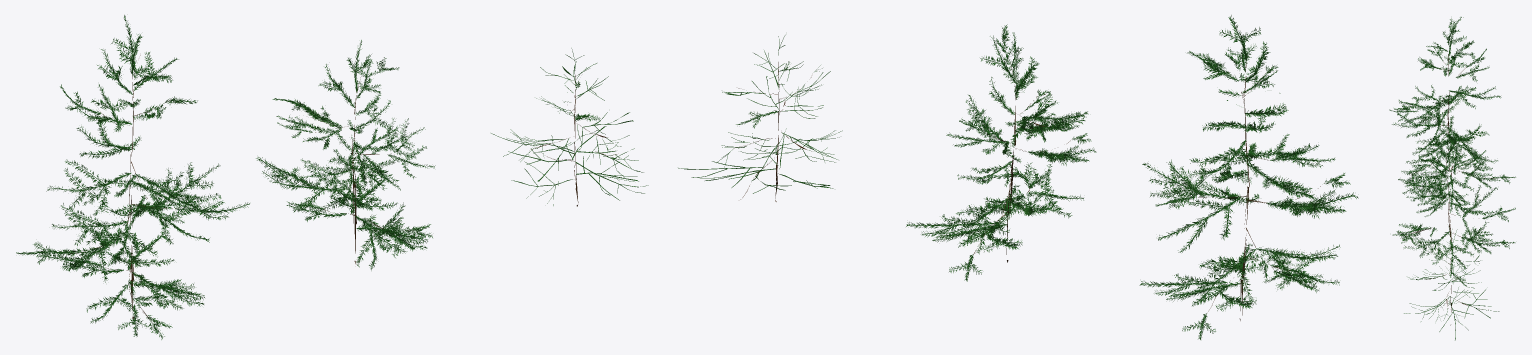
Rendered from fir_sapling_realistic.obj.
3 renders of one model, left to right at view 1: azimuth 30°, elevation 25°; view 2: azimuth 150°, elevation 25°; view 3: azimuth 270°, elevation 25°, orthographic. The views are drawn at different scales.
Visible parts, largest first — view 1: part_2__fir_sapling_twigs, part_1__fir_sapling_branches; view 2: part_2__fir_sapling_twigs, part_1__fir_sapling_branches; view 3: part_2__fir_sapling_twigs, part_1__fir_sapling_branches.
Part boxes in pixels (x1=…): part_2__fir_sapling_twigs: x1=16, y1=15, x2=648, y2=339; part_1__fir_sapling_branches: x1=71, y1=55, x2=616, y2=319; part_2__fir_sapling_twigs: x1=678, y1=15, x2=1358, y2=339; part_1__fir_sapling_branches: x1=734, y1=62, x2=1320, y2=320; part_2__fir_sapling_twigs: x1=1389, y1=17, x2=1515, y2=340; part_1__fir_sapling_branches: x1=1411, y1=50, x2=1494, y2=325.
Bounding box in the file's own units: 2.73 × 1.29 × 0.8256.
